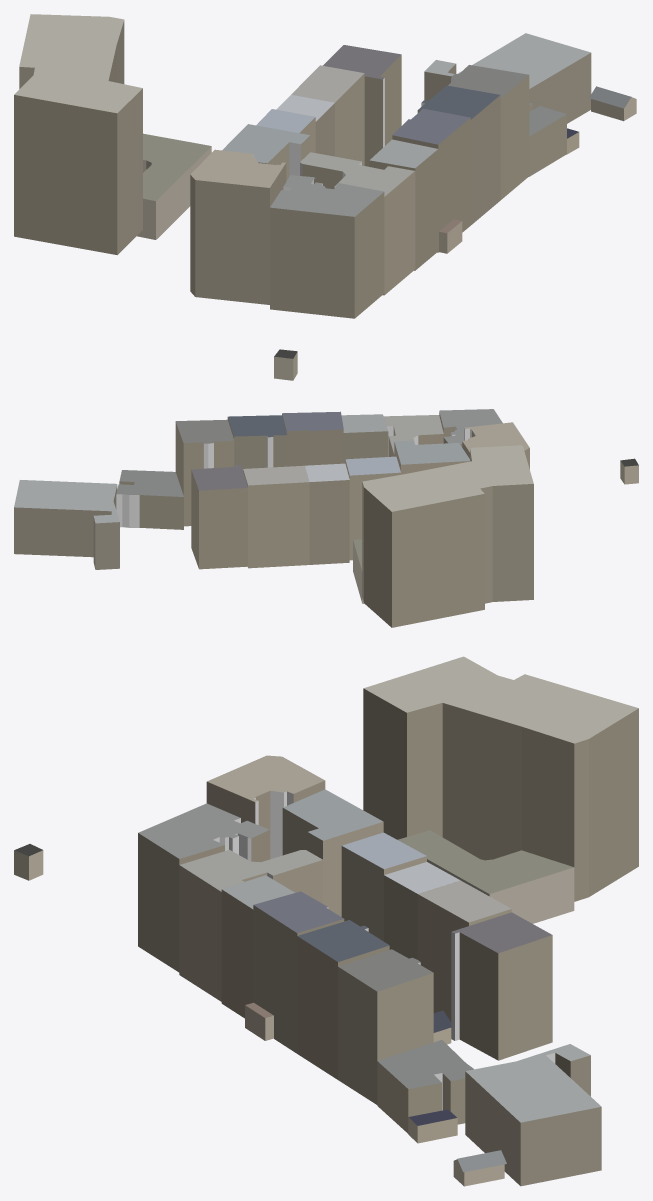
The picture shows the model from 3 angles, top to bottom: view 1: azimuth 30°, elevation 25°; view 2: azimuth 150°, elevation 25°; view 3: azimuth 270°, elevation 25°; orthographic projection. The views are drawn at different scales.
Visible parts, largest first — view 1: tuile; view 2: tuile; view 3: tuile.
Part boxes in pixels (bbox=[...]): tuile: bbox=[14, 14, 636, 380]; tuile: bbox=[14, 409, 638, 627]; tuile: bbox=[14, 656, 638, 1186].
Bounding box in the file's own units: 156 × 43.02 × 121.
